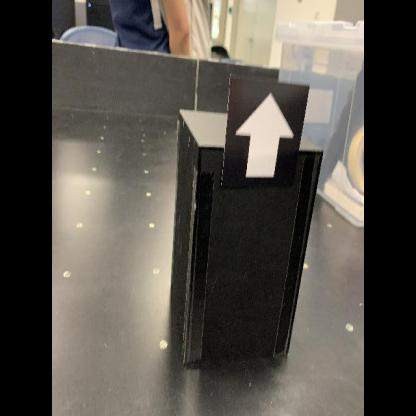up: (220, 70, 311, 192)
